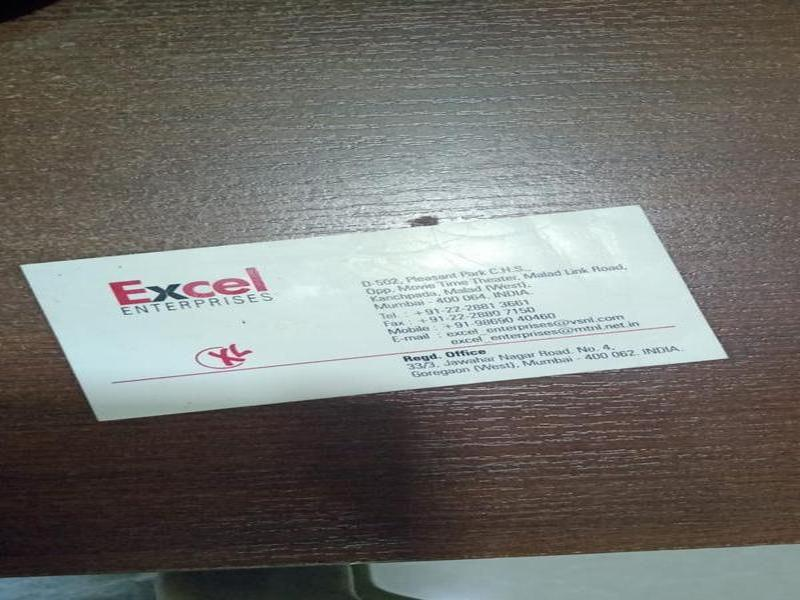card: (18, 199, 731, 422)
